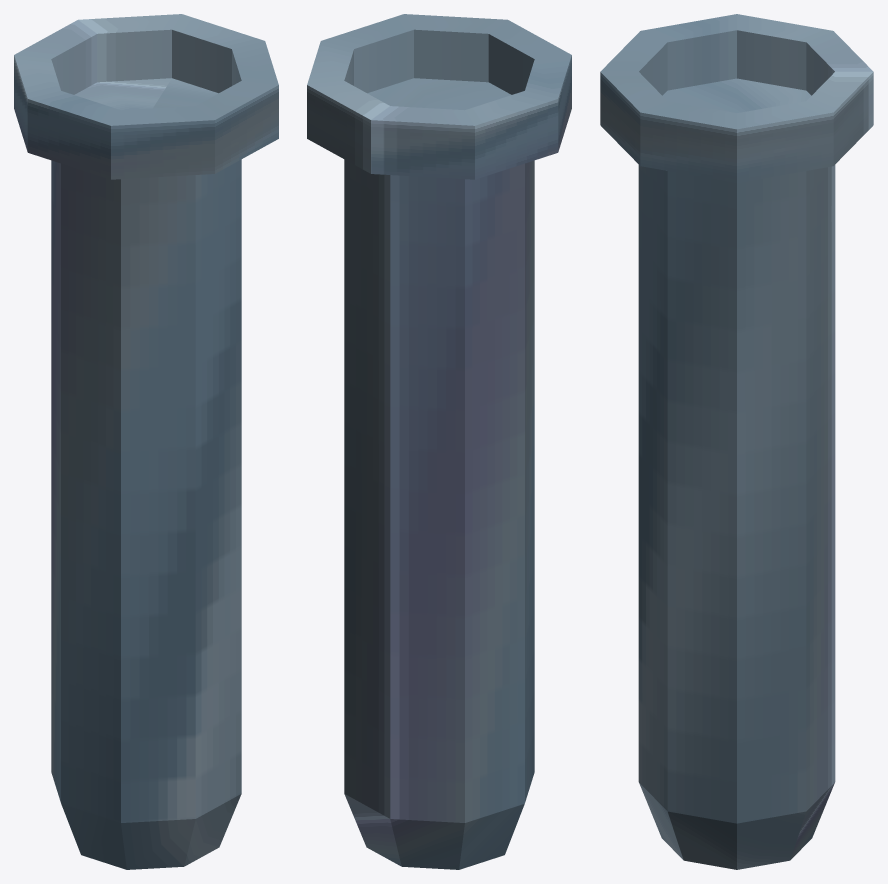
The picture shows the model from 3 angles, left to right: view 1: azimuth 30°, elevation 25°; view 2: azimuth 150°, elevation 25°; view 3: azimuth 270°, elevation 25°; orthographic projection.
Parts seen in each view (by area): view 1: Test Tube; view 2: Test Tube; view 3: Test Tube.
Part boxes in pixels (left/top/right/bottom): Test Tube: left=14, top=14, right=278, bottom=869; Test Tube: left=307, top=14, right=571, bottom=869; Test Tube: left=600, top=14, right=873, bottom=869.
Bounding box in the file's own units: 16.95 × 54.26 × 16.95.
Materials: 1 (1 with a texture image).
